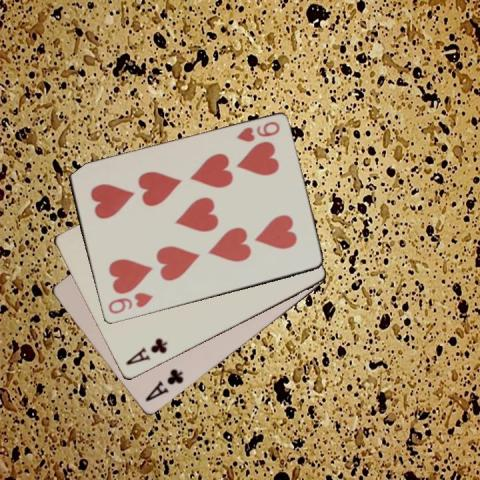9h: (104, 289, 154, 316), (234, 119, 282, 144)
Ac: (142, 366, 185, 403), (122, 336, 168, 368)
